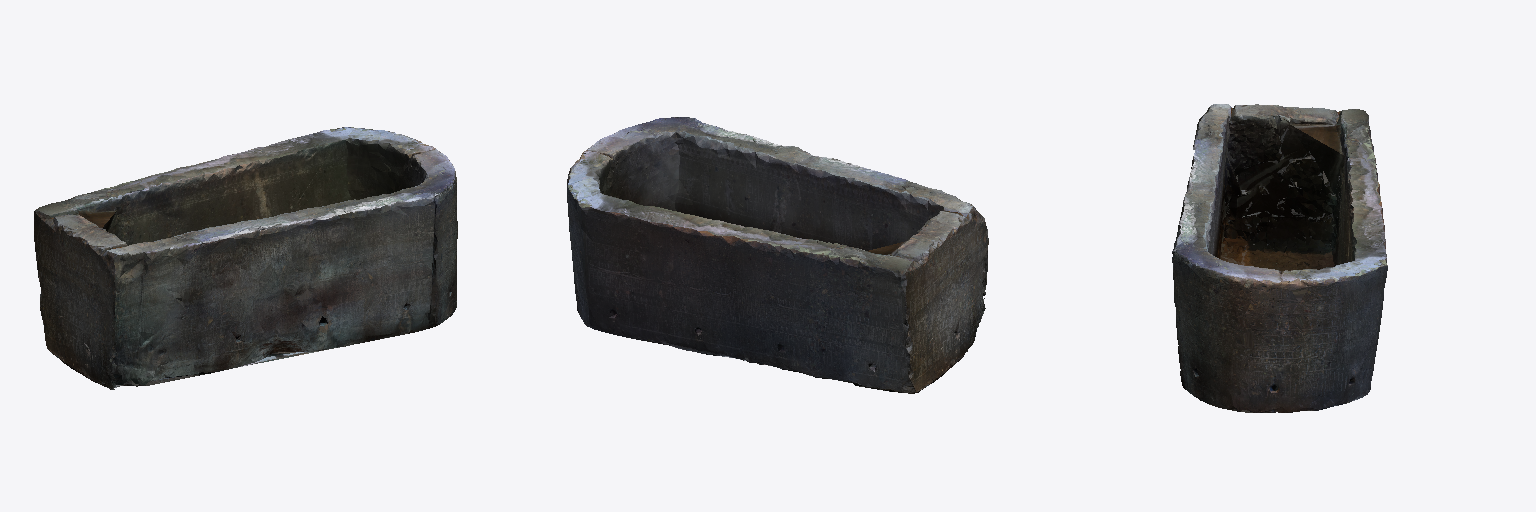
The picture shows the model from 3 angles: view 1: azimuth 30°, elevation 25°; view 2: azimuth 150°, elevation 25°; view 3: azimuth 270°, elevation 25°; orthographic projection.
Size of the model in its own units: 59.48 by 23.1 by 30.46.
2 materials, 2 textured.